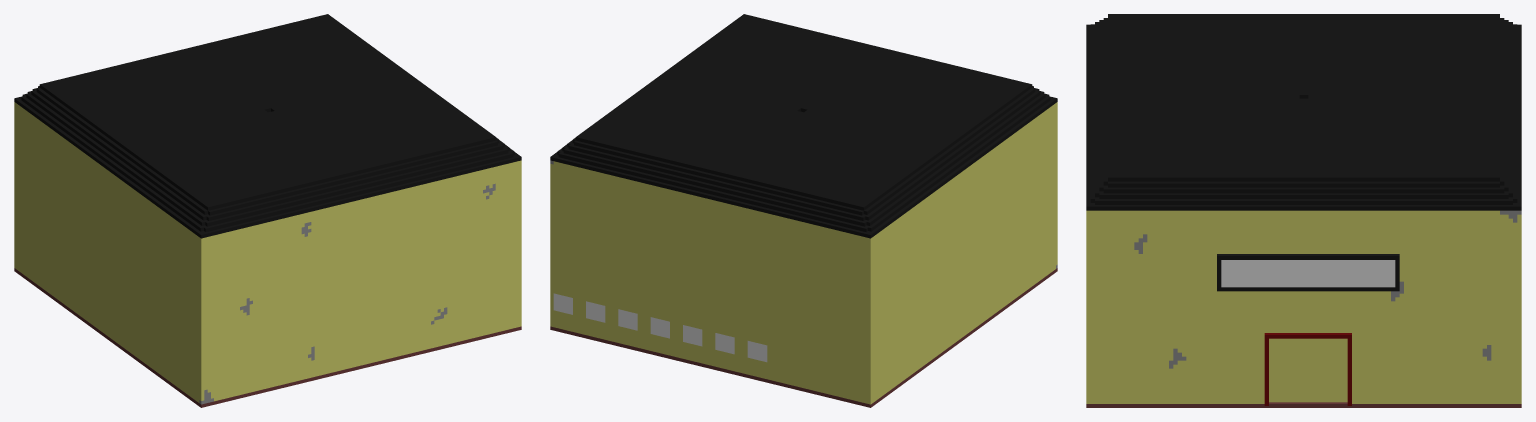
The model's file is --2-Barber Shop.obj.
3 views of the same model, side by side, from view 1: azimuth 30°, elevation 25°; view 2: azimuth 150°, elevation 25°; view 3: azimuth 270°, elevation 25° (orthographic). The views are drawn at different scales.
Visible parts, largest first — view 1: Barber Shop; view 2: Barber Shop; view 3: Barber Shop.
Part boxes in pixels (x1,y1,x2,y2): Barber Shop: (14, 14, 521, 407); Barber Shop: (550, 14, 1057, 407); Barber Shop: (1086, 14, 1521, 407).
Size of the model in its own units: 10 by 5.6 by 10.
1 material, 1 textured.
